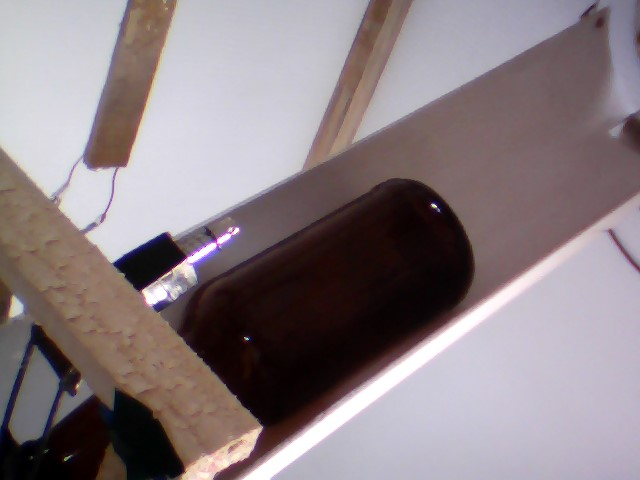vidrio: (175, 170, 486, 435)
